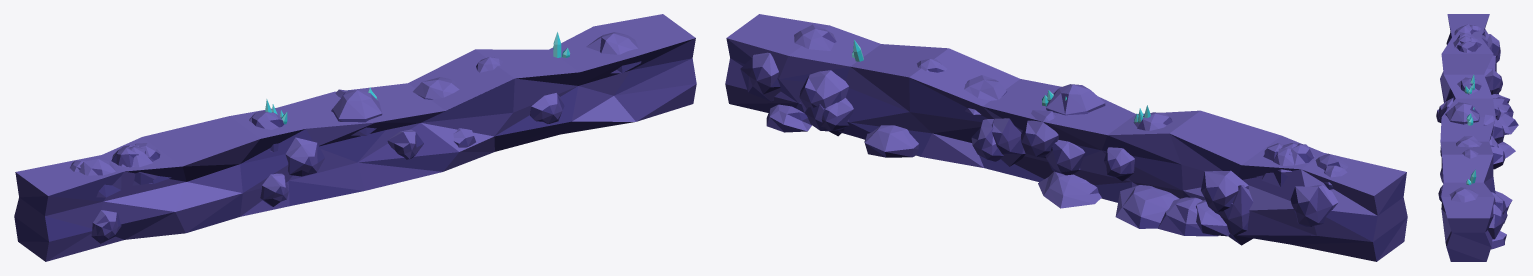
The model's file is Mine_Perimeter_Front_B.obj.
3 renders of one model, left to right at view 1: azimuth 30°, elevation 25°; view 2: azimuth 150°, elevation 25°; view 3: azimuth 270°, elevation 25°, orthographic. The views are drawn at different scales.
Visible parts, largest first — view 1: Mine_Perimeter_Front_B; view 2: Mine_Perimeter_Front_B; view 3: Mine_Perimeter_Front_B.
Part boxes in pixels (x1,y1,x2,y2): Mine_Perimeter_Front_B: [14, 14, 696, 261]; Mine_Perimeter_Front_B: [725, 14, 1407, 261]; Mine_Perimeter_Front_B: [1436, 14, 1518, 261].
Size of the model in its own units: 20 by 3.11 by 3.42.
